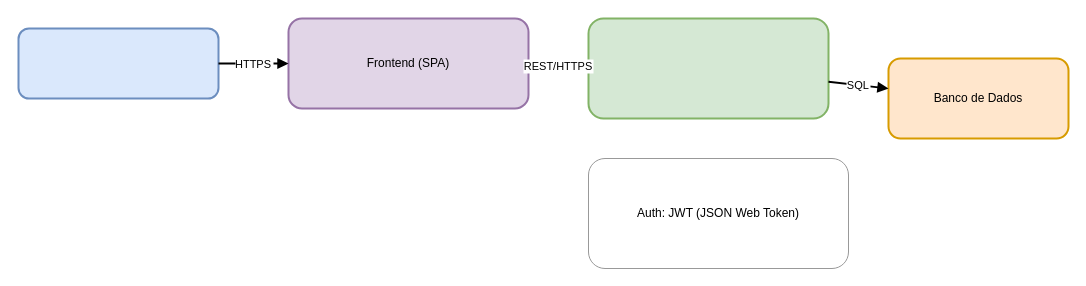
The diagram is 1086 pixels wide and 286 high, and some of its shapes have lost their labels. Here are the shapes that lost their labels. From the top down, the box of each, then its label:
(17, 27, 219, 99): Navegador / Cliente
(587, 17, 829, 119): Backend (API)
